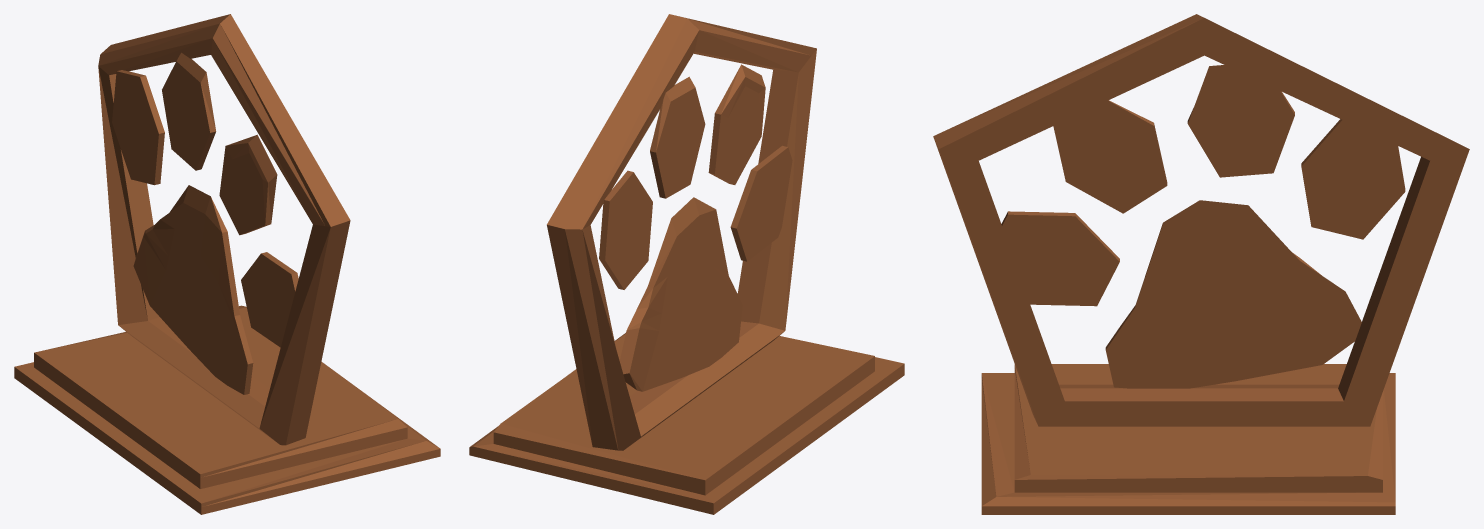
Rendered from bronzePaw.FBX.
3 renders of one model, left to right at view 1: azimuth 30°, elevation 25°; view 2: azimuth 150°, elevation 25°; view 3: azimuth 270°, elevation 25°, orthographic. The views are drawn at different scales.
Visible parts, largest first — view 1: Box233; view 2: Box233; view 3: Box233.
Boxes of the visible parts, left/top/right/bottom form: Box233: left=14, top=14, right=440, bottom=514; Box233: left=469, top=14, right=904, bottom=514; Box233: left=933, top=14, right=1469, bottom=514.
Size of the model in its own units: 7.97 by 12.58 by 13.97.
